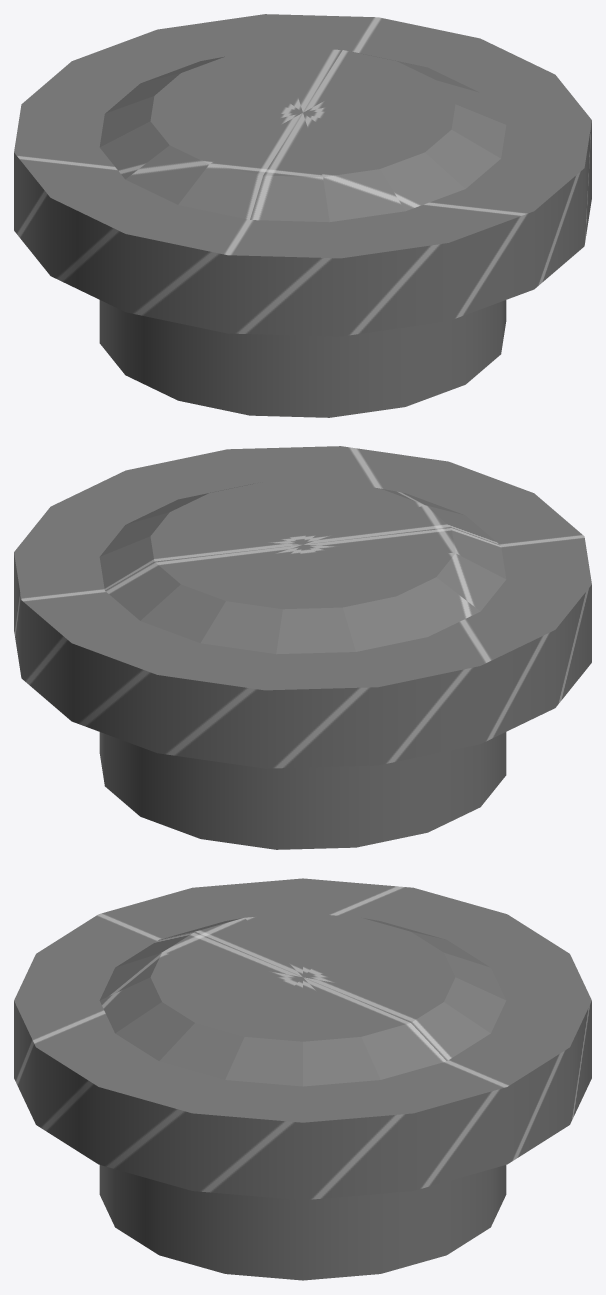
File: FSR-S5-Tuner.obj
The picture shows the model from 3 angles, top to bottom: view 1: azimuth 30°, elevation 25°; view 2: azimuth 150°, elevation 25°; view 3: azimuth 270°, elevation 25°; orthographic projection.
Visible parts, largest first — view 1: FSR-S5-Tuner; view 2: FSR-S5-Tuner; view 3: FSR-S5-Tuner.
Boxes of the visible parts, x1,y1,x2,y2 form: FSR-S5-Tuner: (14, 14, 591, 417); FSR-S5-Tuner: (14, 446, 591, 849); FSR-S5-Tuner: (14, 878, 591, 1280).
Size of the model in its own units: 0.675 by 0.28 by 0.675.
